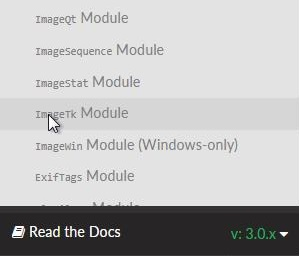cursor: (39, 108, 69, 139)
